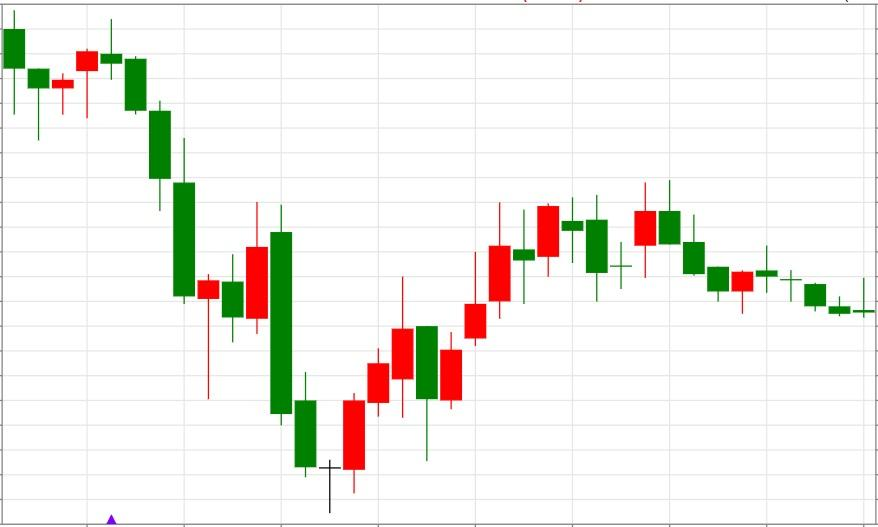morning_star_rise: (99, 18, 366, 513)
three_black_crows_fall: (318, 180, 730, 513)
